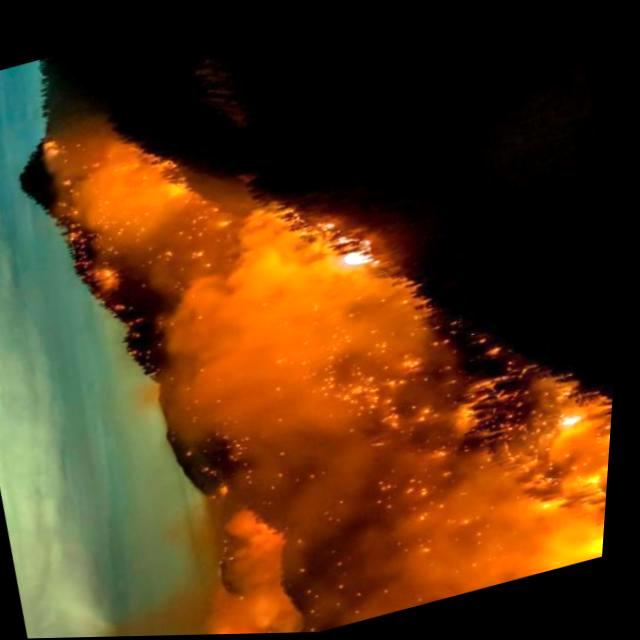fire: (117, 194, 389, 522), (28, 94, 284, 384), (220, 465, 506, 635), (471, 353, 621, 582), (346, 292, 486, 480), (326, 212, 416, 302)
